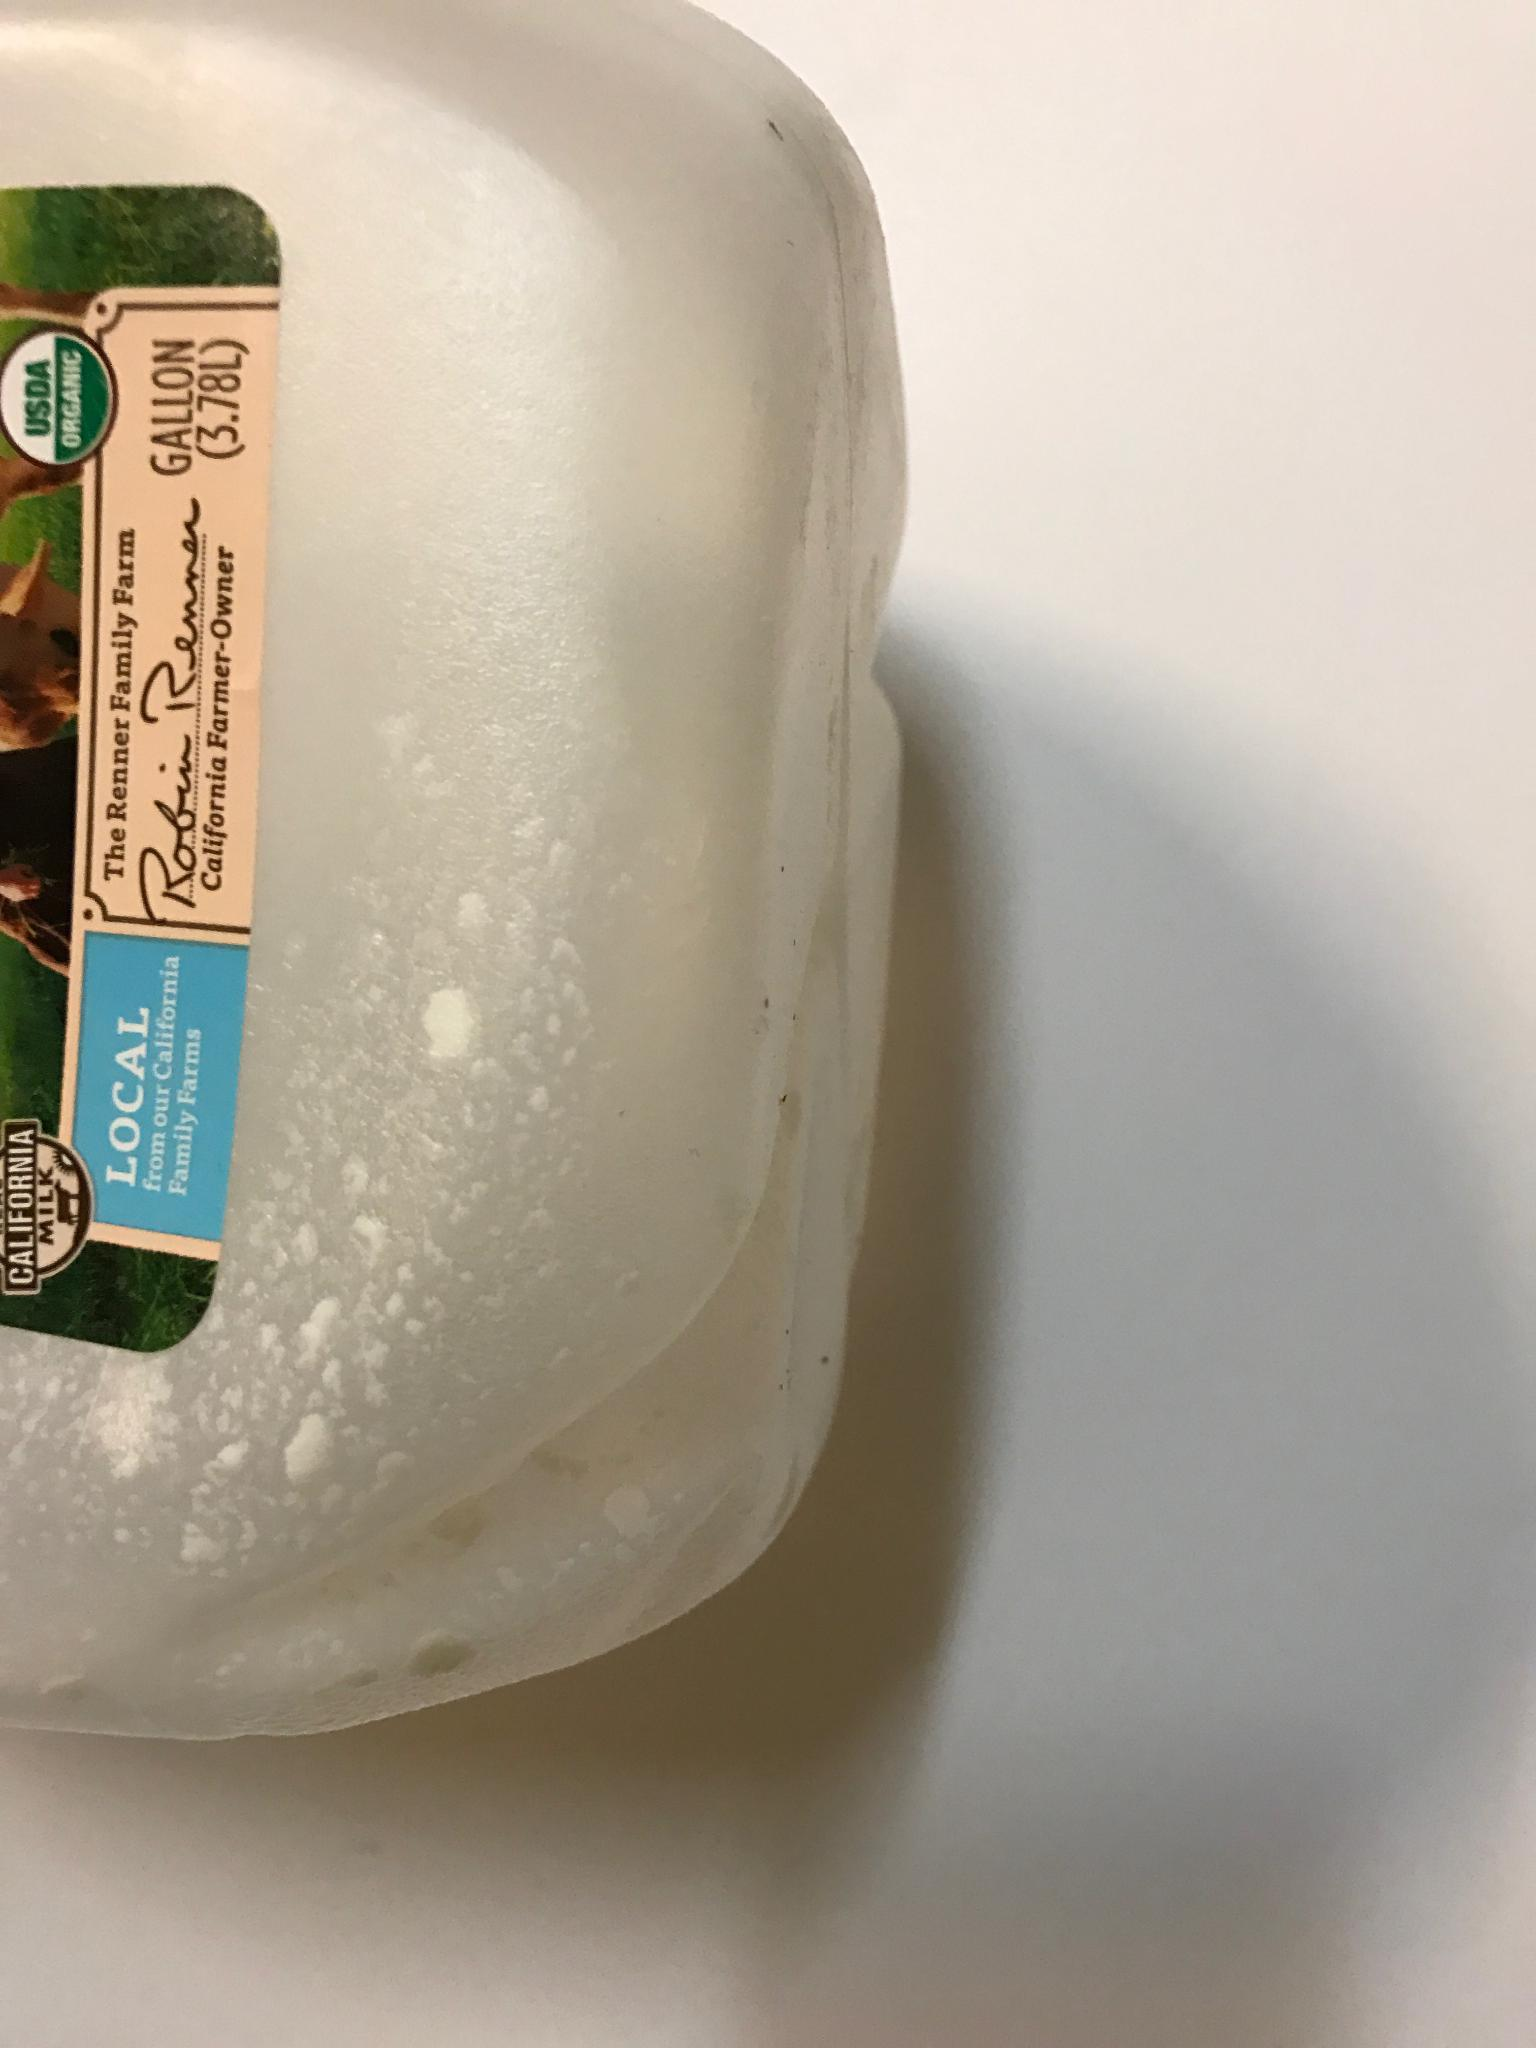Plastic: (0, 0, 921, 1755)
